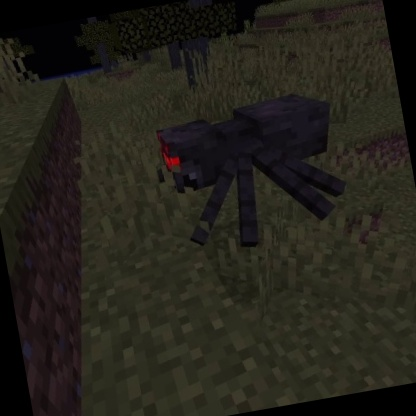spider: (143, 82, 360, 266)
